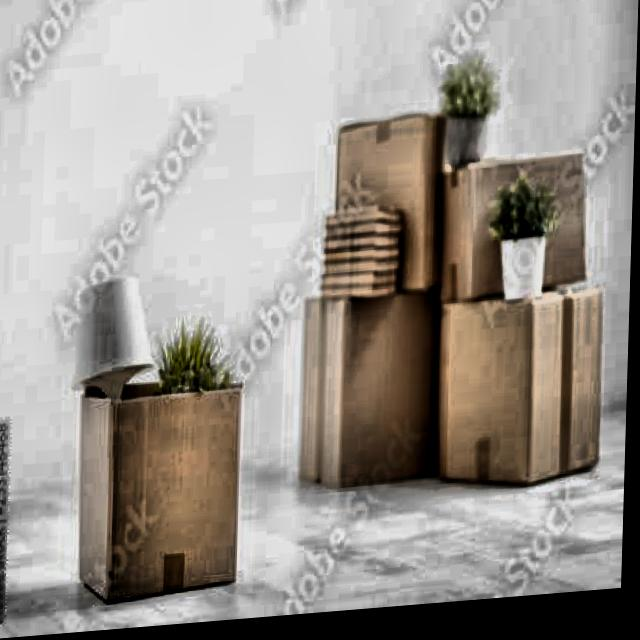Cardbox: (73, 367, 250, 613)
